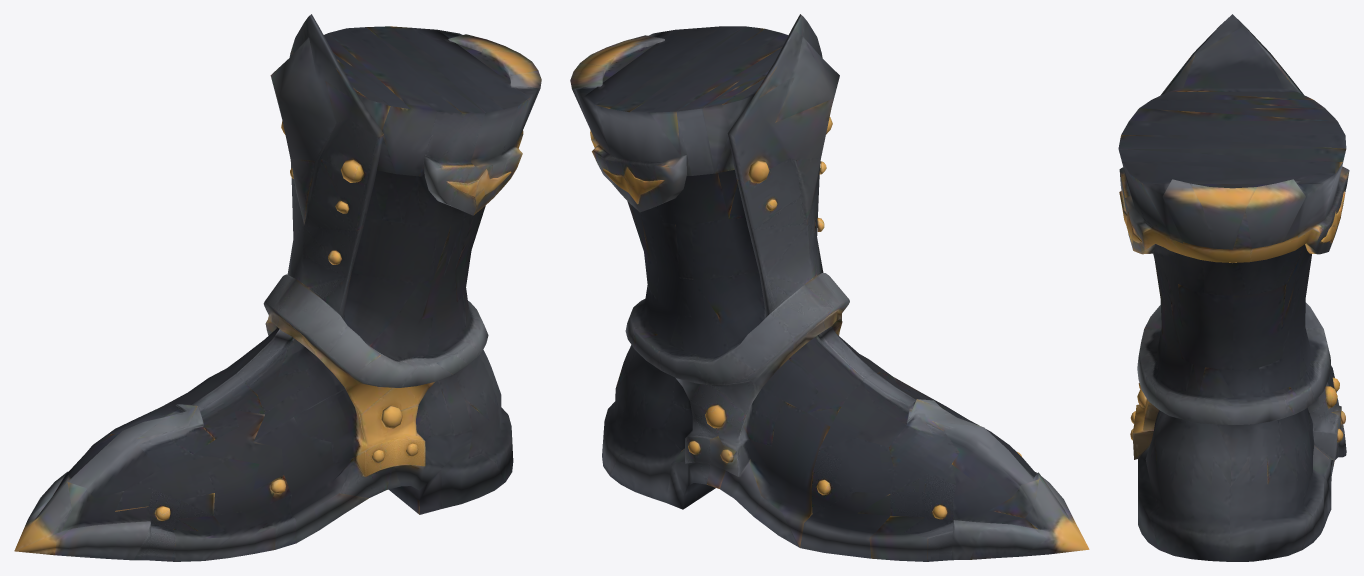
File: plate_boot3.glb
The picture shows the model from 3 angles, left to right: view 1: azimuth 30°, elevation 25°; view 2: azimuth 150°, elevation 25°; view 3: azimuth 270°, elevation 25°; orthographic projection. The views are drawn at different scales.
Size of the model in its own units: 0.9619 by 0.8667 by 0.3896.
Materials: 1 (1 with a texture image).
